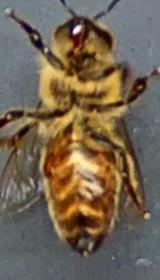varroa_mite: (40, 143, 59, 178)
